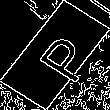P_NW: (20, 26, 90, 84)
